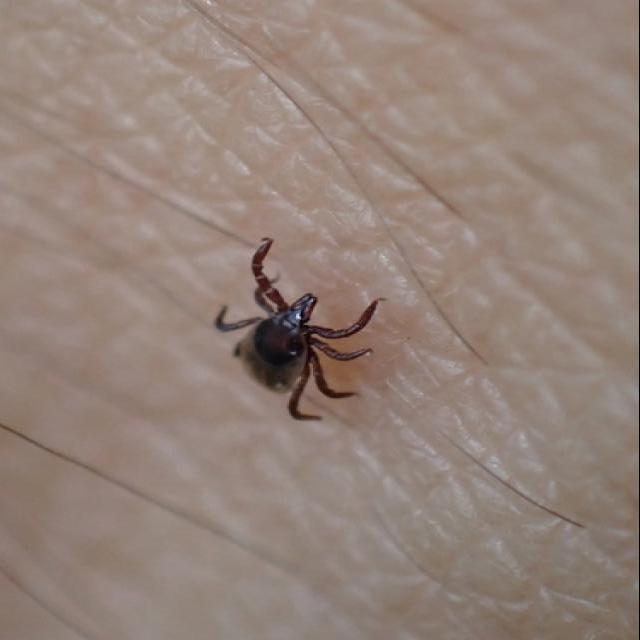Ixodes Ricinus-F: (217, 239, 382, 422)
